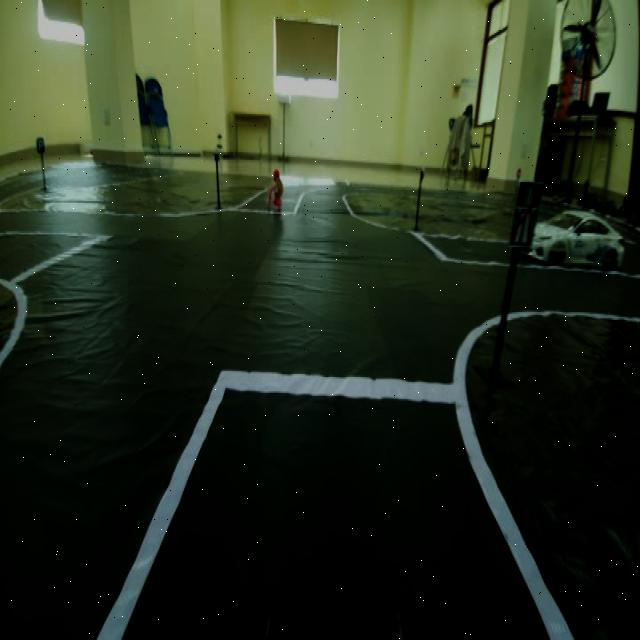highway_exit: (507, 180, 548, 264)
